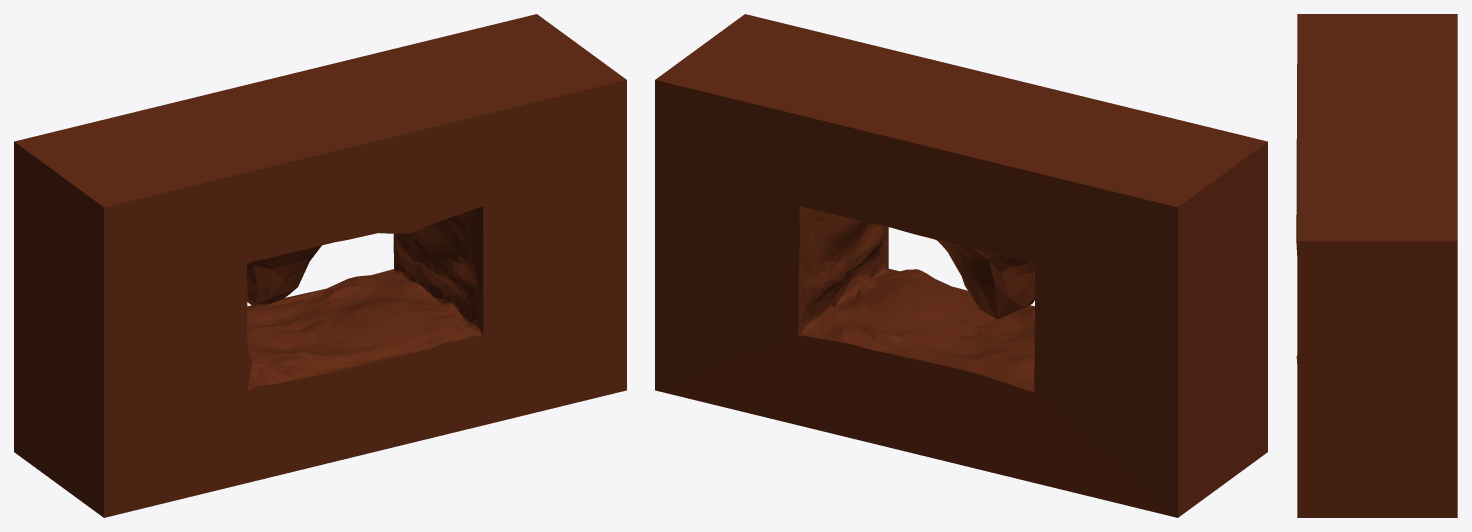
The model's file is BaseWorld_Level_05.glb.
3 views of the same model, side by side, from view 1: azimuth 30°, elevation 25°; view 2: azimuth 150°, elevation 25°; view 3: azimuth 270°, elevation 25° (orthographic). The views are drawn at different scales.
Parts seen in each view (by area): view 1: Cube; view 2: Cube; view 3: Cube.
Boxes of the visible parts, x1=… form: Cube: x1=14, y1=14, x2=626, y2=517; Cube: x1=655, y1=14, x2=1267, y2=517; Cube: x1=1296, y1=14, x2=1457, y2=517.
Size of the model in its own units: 67.08 by 38.07 by 20.14.
